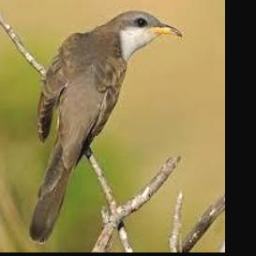Cuckoo: (26, 12, 182, 243)
